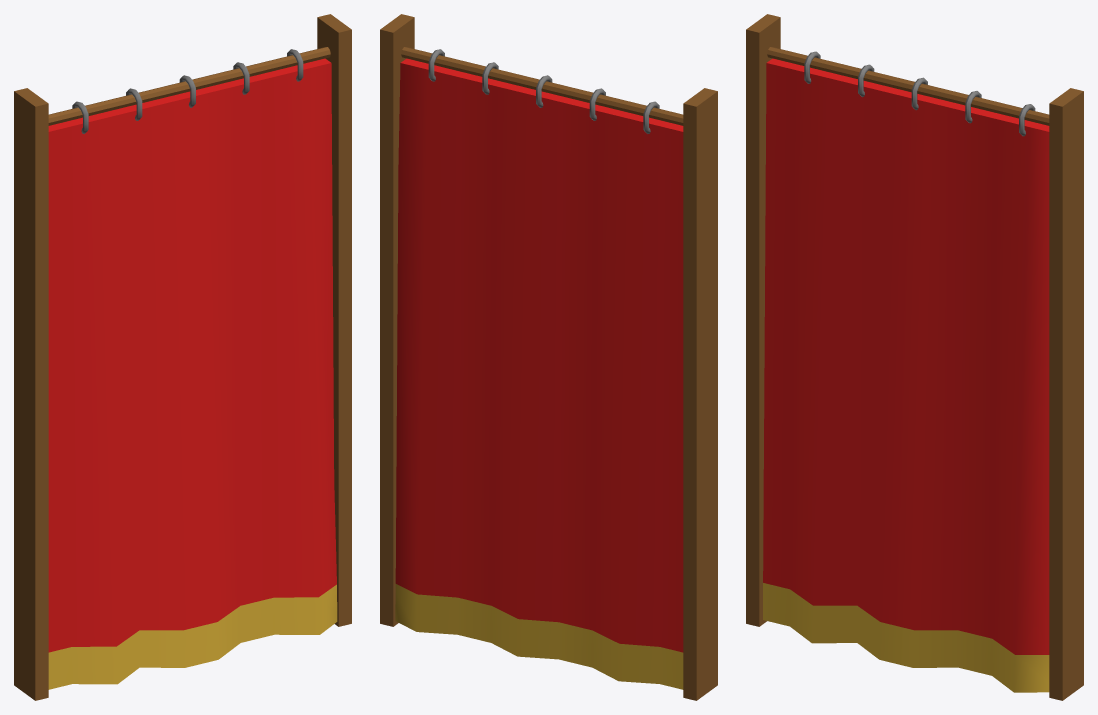
The model's file is curtain.fbx.
3 renders of one model, left to right at view 1: azimuth 30°, elevation 25°; view 2: azimuth 150°, elevation 25°; view 3: azimuth 330°, elevation 25°, orthographic.
Visible parts, largest first — view 1: Curtain; view 2: Curtain; view 3: Curtain.
Boxes of the visible parts, x1,y1,x2,y2 form: Curtain: (14, 14, 351, 700); Curtain: (380, 14, 717, 700); Curtain: (746, 14, 1083, 700).
Bounding box in the file's own units: 209 × 38.16 × 375.
